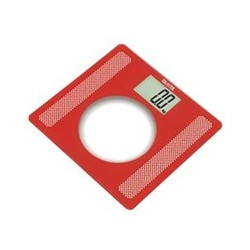LCD: (134, 74, 182, 116)
